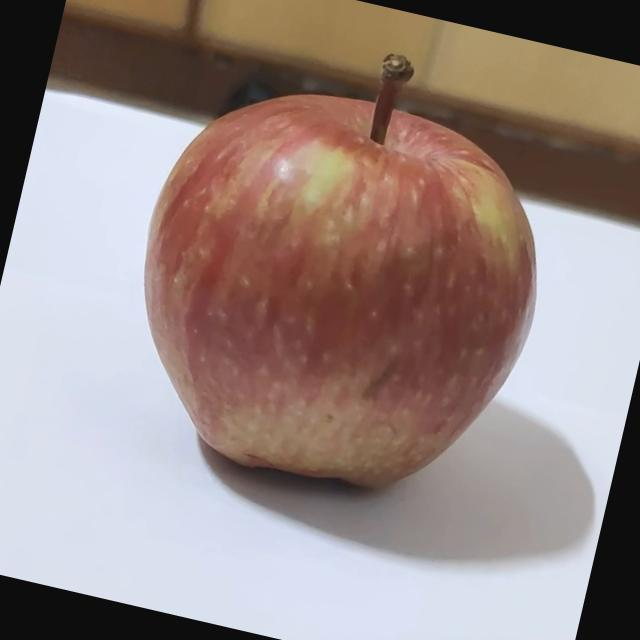apple: (93, 1, 590, 533)
